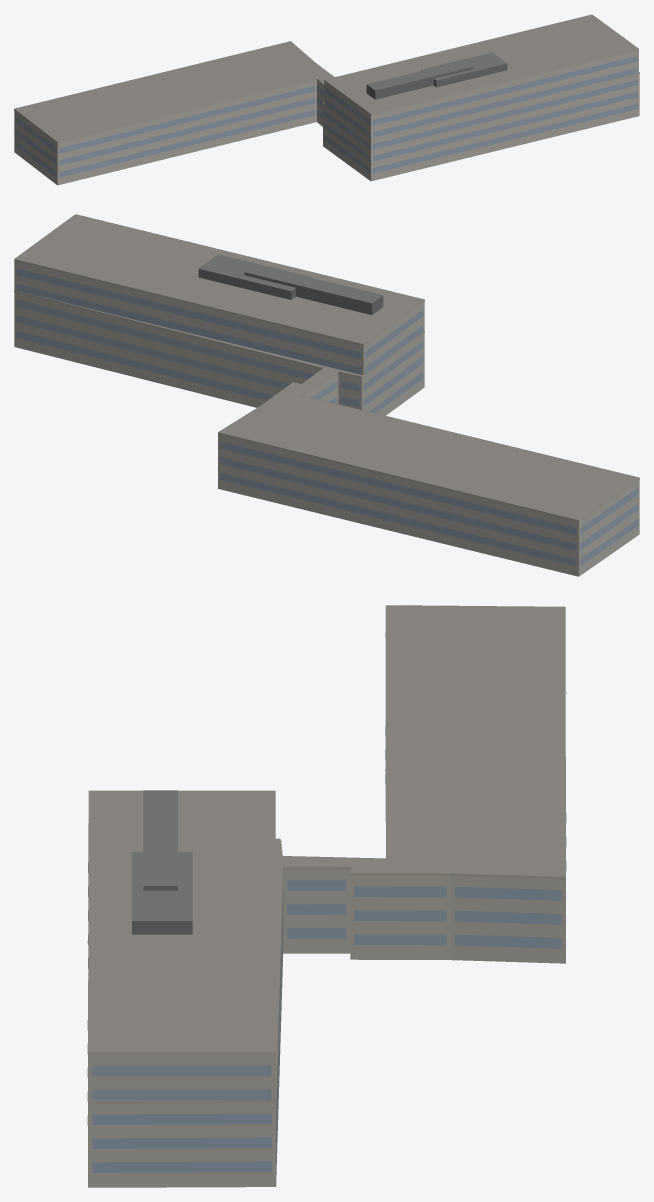
The model's file is office-4899-m2-on-wooded-lot-bo3287.glb.
The picture shows the model from 3 angles, top to bottom: view 1: azimuth 30°, elevation 25°; view 2: azimuth 150°, elevation 25°; view 3: azimuth 270°, elevation 25°; orthographic projection. The views are drawn at different scales.
Visible parts, largest first — view 1: office_4899_m2_on_wooded_lot_bo3287; view 2: office_4899_m2_on_wooded_lot_bo3287; view 3: office_4899_m2_on_wooded_lot_bo3287.
Boxes of the visible parts, x1,y1,x2,y2 form: office_4899_m2_on_wooded_lot_bo3287: [14, 14, 639, 185]; office_4899_m2_on_wooded_lot_bo3287: [14, 214, 639, 576]; office_4899_m2_on_wooded_lot_bo3287: [87, 605, 566, 1187].
Size of the model in its own units: 169 by 24.27 by 68.9.
